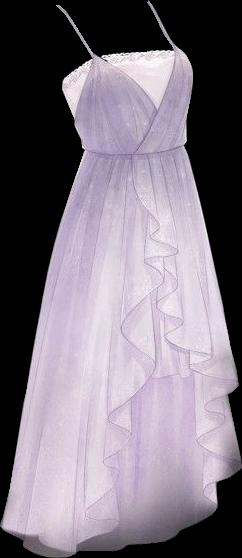Bodice: (56, 1, 192, 155)
Hemline: (70, 156, 179, 557), (153, 265, 240, 505)
Neckline: (55, 0, 178, 59), (92, 47, 180, 113)
Skirt: (0, 147, 241, 557)
Waistline: (81, 143, 186, 158)
